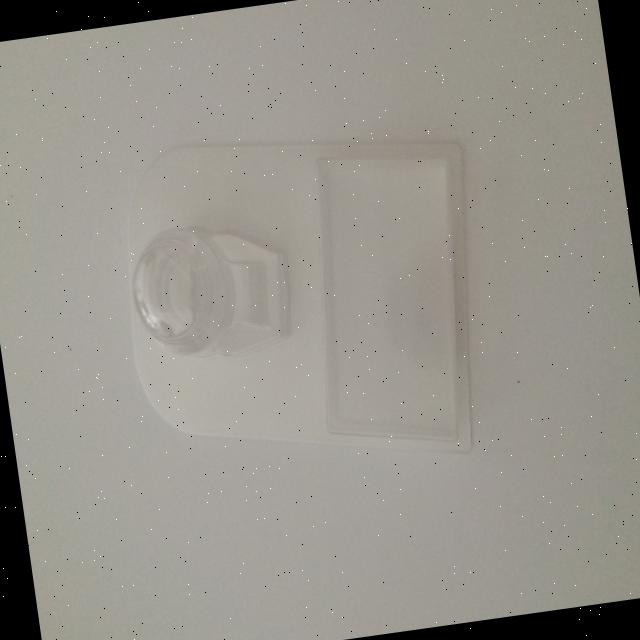plastic: (90, 100, 516, 534)
